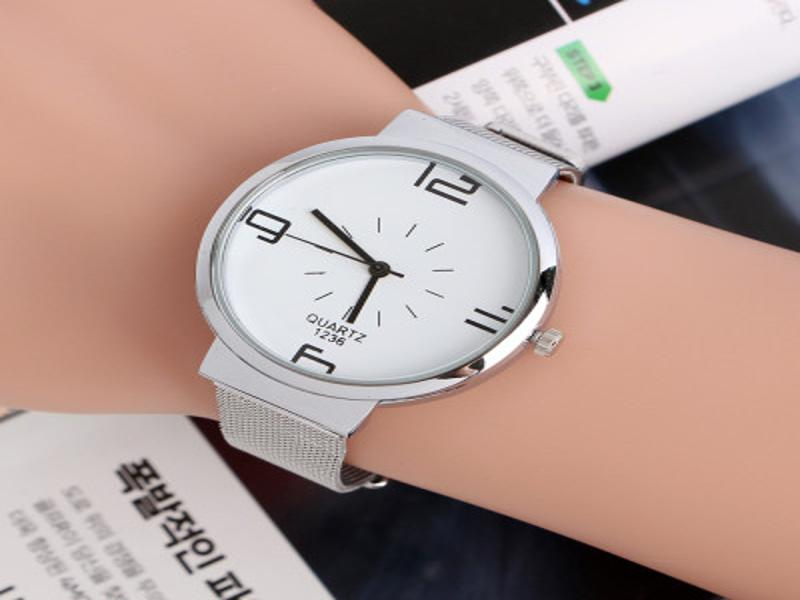watch: (190, 108, 586, 495)
